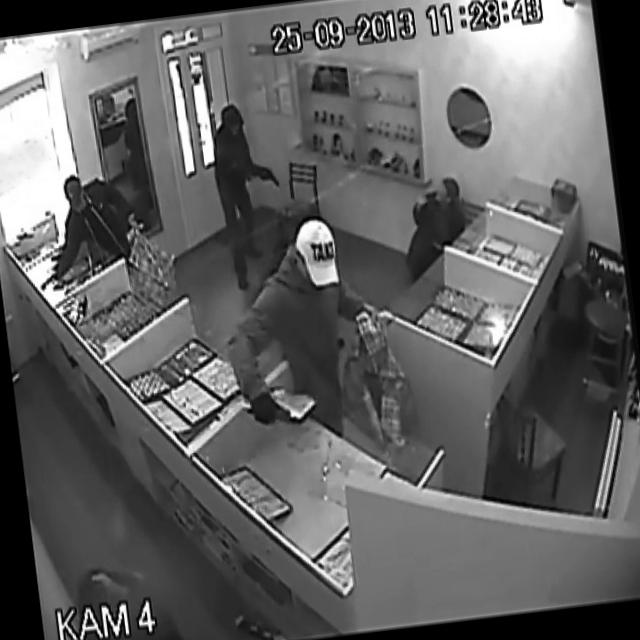gun: (256, 156, 284, 194)
person: (268, 199, 376, 400), (205, 98, 293, 289), (52, 165, 140, 268), (400, 166, 488, 266)
person with a gun: (205, 97, 294, 288)
